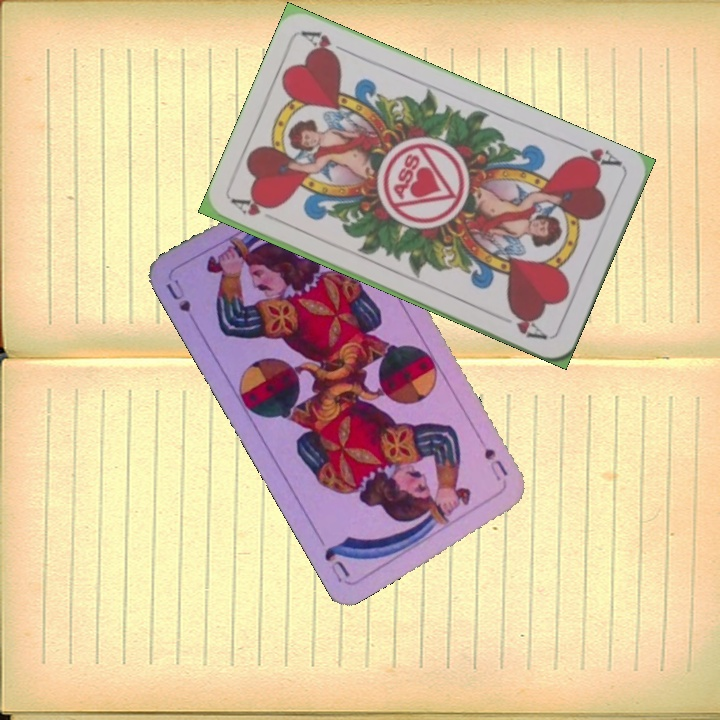HA: (566, 139, 625, 173), (229, 194, 276, 219)
SU: (474, 434, 511, 484), (161, 275, 195, 315)
